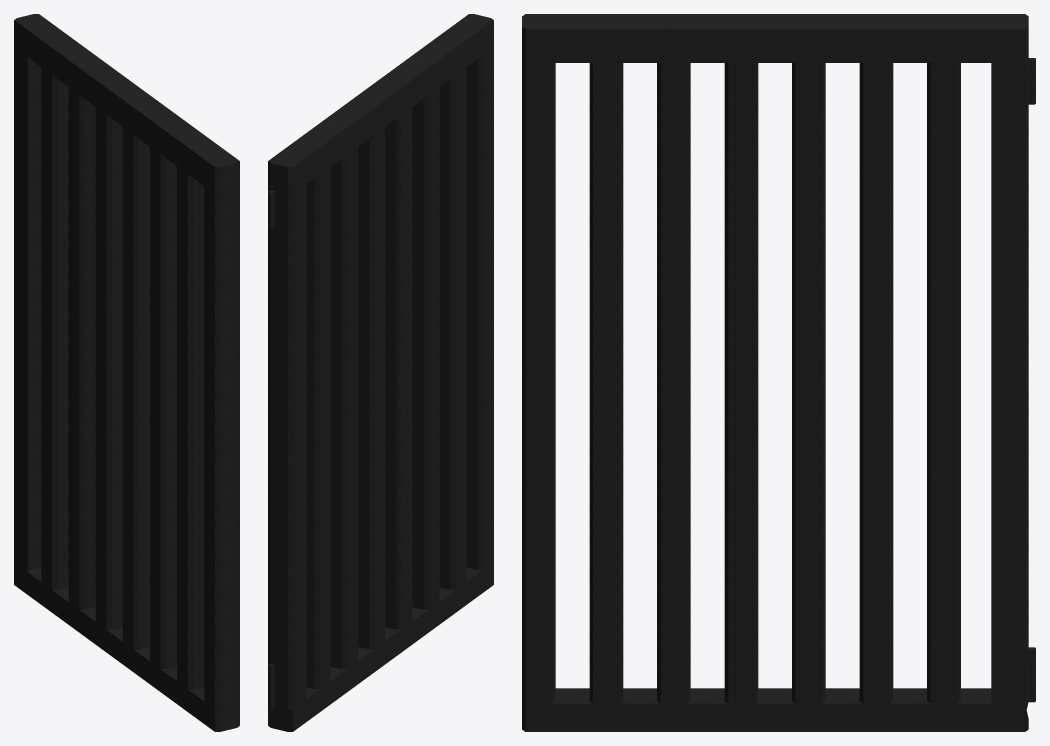
File: Gate_side2.FBX
The picture shows the model from 3 angles, left to right: view 1: azimuth 30°, elevation 25°; view 2: azimuth 150°, elevation 25°; view 3: azimuth 270°, elevation 25°; orthographic projection. The views are drawn at different scales.
Parts seen in each view (by area): view 1: Box01; view 2: Box01; view 3: Box01.
Boxes of the visible parts, left/top/right/bottom form: Box01: left=14, top=14, right=239, bottom=731; Box01: left=268, top=14, right=493, bottom=731; Box01: left=522, top=14, right=1035, bottom=731.
Size of the model in its own units: 2.64 by 57.11 by 37.85.
1 material, 1 textured.
